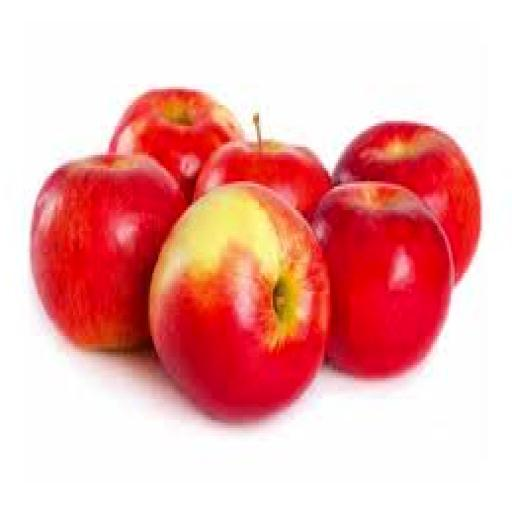apple: (148, 184, 329, 420), (29, 155, 184, 349), (312, 182, 451, 378), (334, 121, 479, 280), (108, 90, 240, 199), (193, 116, 329, 215)
